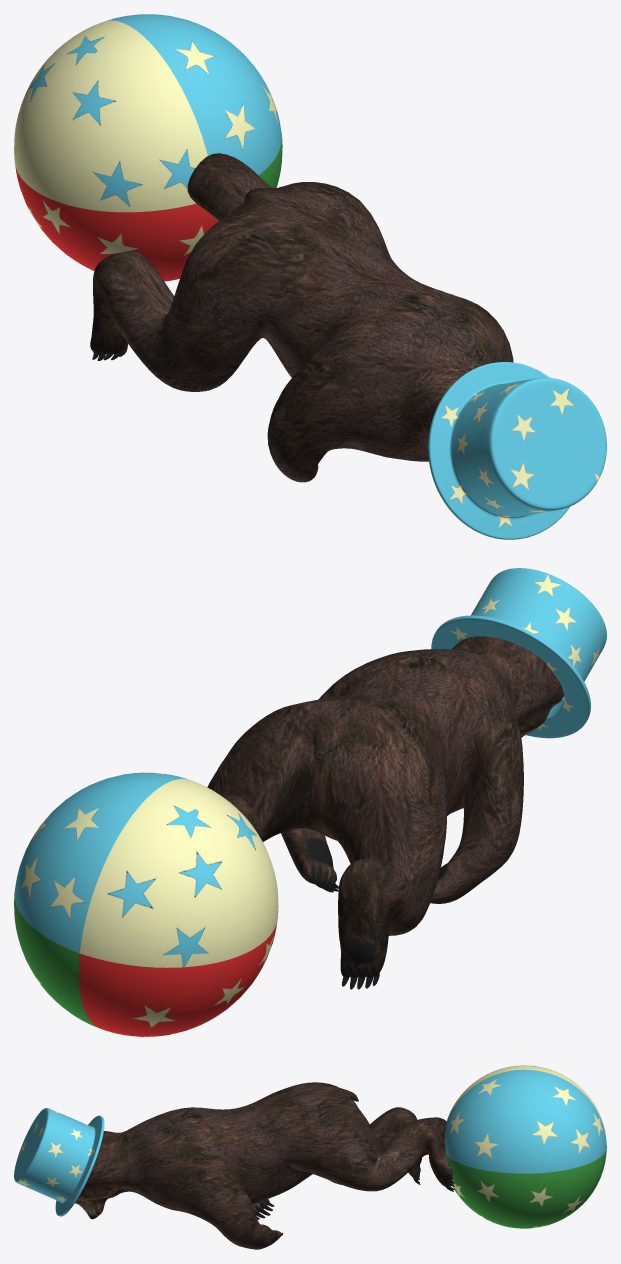
File: 14089_Circus_Bear_Standing_on_large_ball_v1_l2.obj
3 views of the same model, one above another, from view 1: azimuth 30°, elevation 25°; view 2: azimuth 150°, elevation 25°; view 3: azimuth 270°, elevation 25° (orthographic). The views are drawn at different scales.
Visible parts, largest first — view 1: bear, ball, cap; view 2: bear, ball, cap; view 3: bear, ball, cap.
Boxes of the visible parts, x1,y1,x2,y2 form: bear: (90, 153, 513, 482); ball: (14, 14, 282, 281); cap: (428, 362, 606, 539); bear: (207, 636, 564, 978); ball: (14, 772, 278, 1036); cap: (431, 568, 606, 738); bear: (75, 1082, 452, 1249); ball: (445, 1065, 606, 1228); cap: (14, 1108, 104, 1216).
Size of the model in its own units: 63.8 by 60.93 by 201.
Materials: 4 (3 with a texture image).
